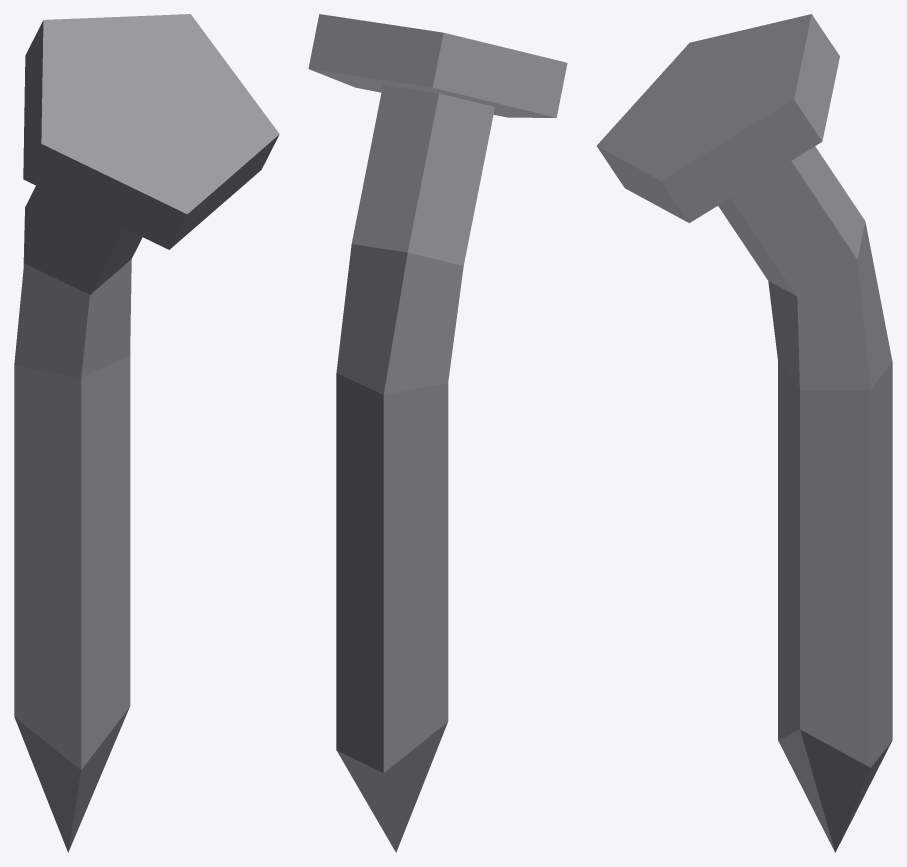
The model's file is SM_Item_Nail_04.glb.
3 renders of one model, left to right at view 1: azimuth 30°, elevation 25°; view 2: azimuth 150°, elevation 25°; view 3: azimuth 270°, elevation 25°, orthographic. The views are drawn at different scales.
Parts seen in each view (by area): view 1: SM_Item_Nail_04; view 2: SM_Item_Nail_04; view 3: SM_Item_Nail_04.
Boxes of the visible parts, x1,y1,x2,y2 form: SM_Item_Nail_04: (14, 14, 279, 852); SM_Item_Nail_04: (308, 14, 567, 852); SM_Item_Nail_04: (597, 14, 892, 852).
Size of the model in its own units: 0.0369 by 0.1322 by 0.0432.
1 material, 1 textured.
